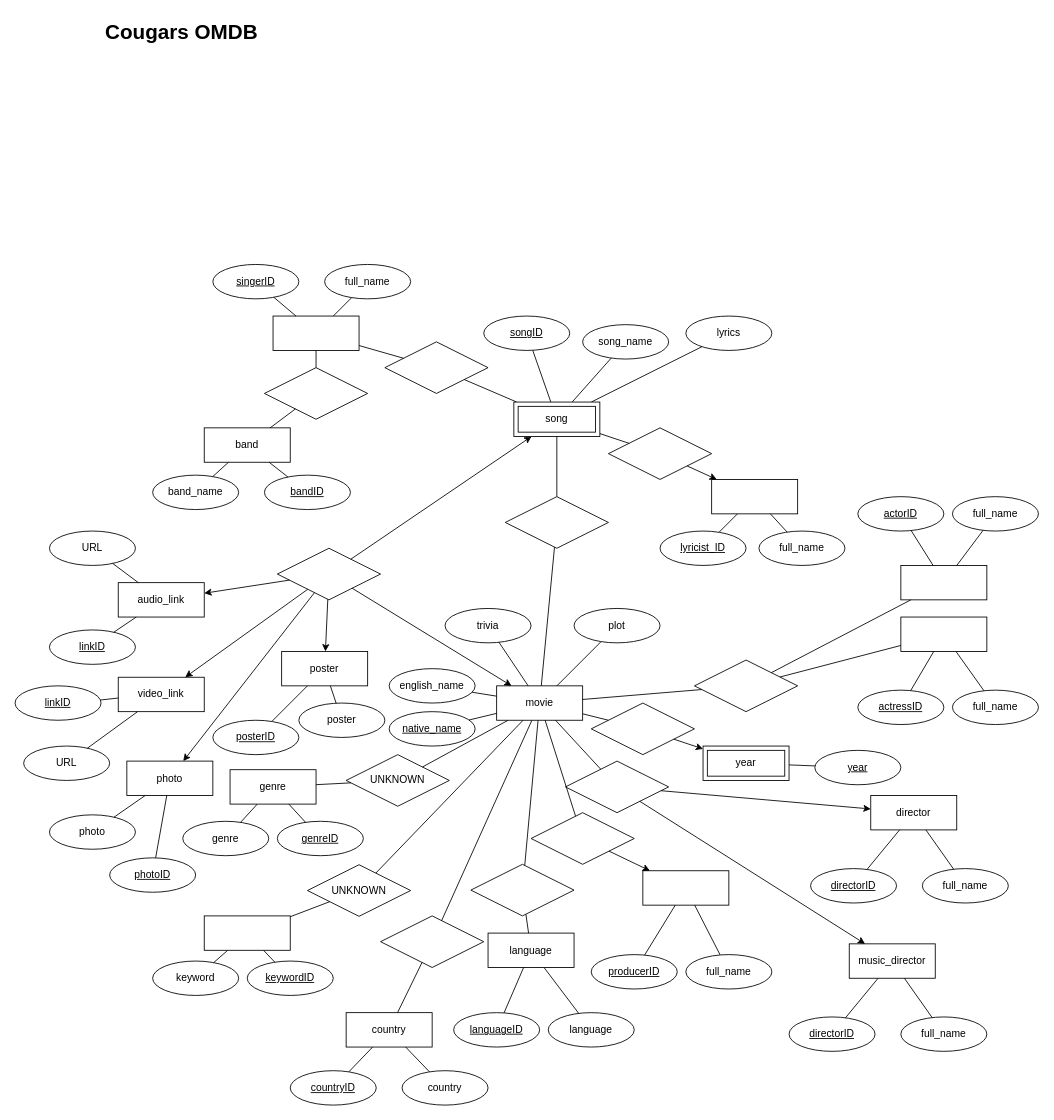
Image size: 1054x1120. Some labels were removed from this diagram. Each missing label, with the centre of its shape:
"actor" belongs at point (943, 582).
"actress" belongs at point (943, 633).
"acts" belongs at point (746, 685).
"band_member" belongs at point (316, 393).
"directs" belongs at point (617, 786).
"filmed_in" belongs at point (432, 941).
"keywords" belongs at point (246, 932).
"lyricist" belongs at point (754, 496).
"made" belongs at point (642, 728).
"played" belongs at point (556, 522).
"producer" belongs at point (685, 887).
"produces" belongs at point (582, 838).
"promotes" belongs at point (328, 573).
"singer" belongs at point (315, 332).
"sings" belongs at point (436, 367).
"spoken" belongs at point (522, 889).
"writer" belongs at point (660, 453).
